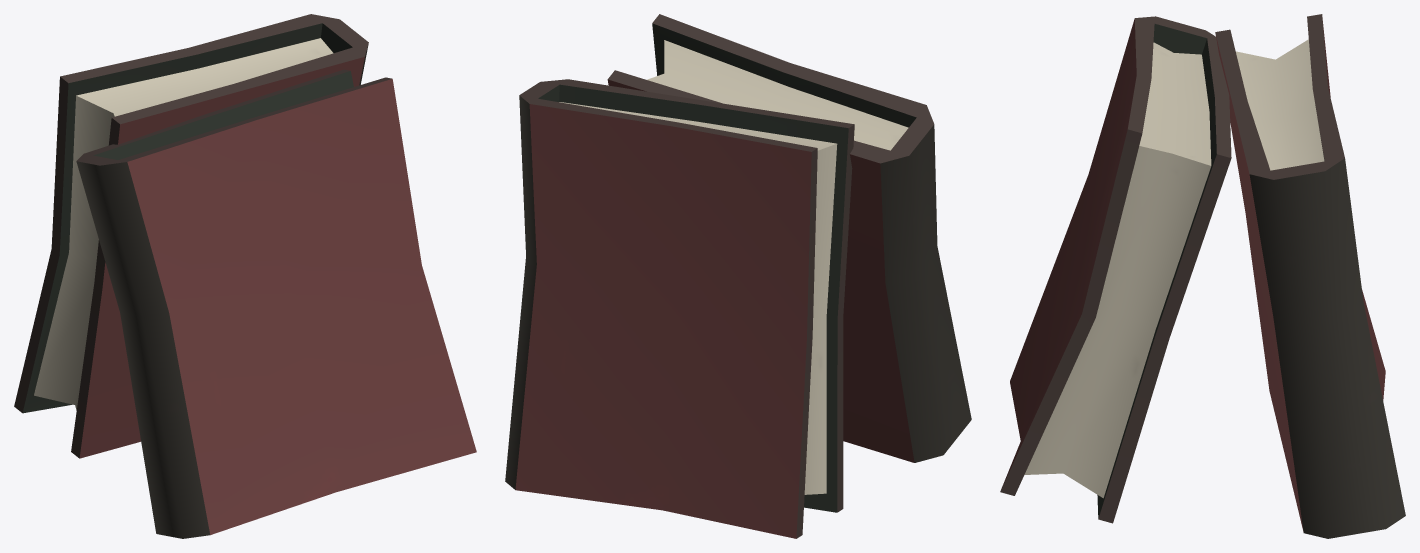
Rendered from Buku.fbx.
The picture shows the model from 3 angles, left to right: view 1: azimuth 30°, elevation 25°; view 2: azimuth 150°, elevation 25°; view 3: azimuth 270°, elevation 25°; orthographic projection. The views are drawn at different scales.
Visible parts, largest first — view 1: book_1.015, book_1.001; view 2: book_1.001, book_1.015; view 3: book_1.015, book_1.001.
Boxes of the visible parts, x1=… form: book_1.015: x1=76, y1=69, x2=476, y2=538; book_1.001: x1=14, y1=14, x2=368, y2=458; book_1.001: x1=505, y1=79, x2=854, y2=538; book_1.015: x1=607, y1=14, x2=971, y2=462; book_1.015: x1=1000, y1=16, x2=1231, y2=523; book_1.001: x1=1215, y1=14, x2=1405, y2=538.
Bounding box in the file's own units: 69 × 77.67 × 71.13.
1 material, 1 textured.
